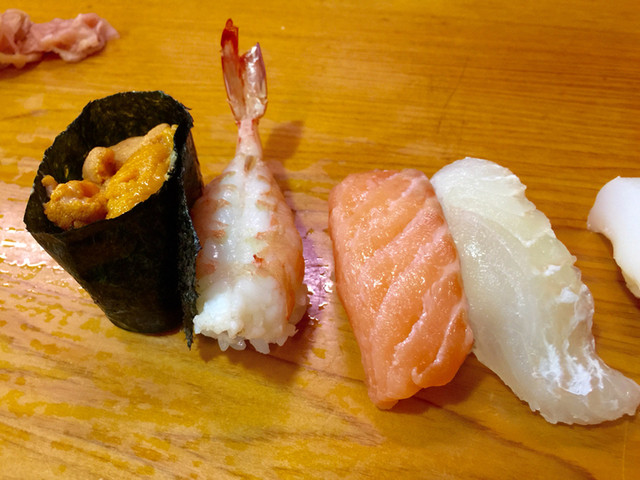salmon: (326, 161, 483, 411)
